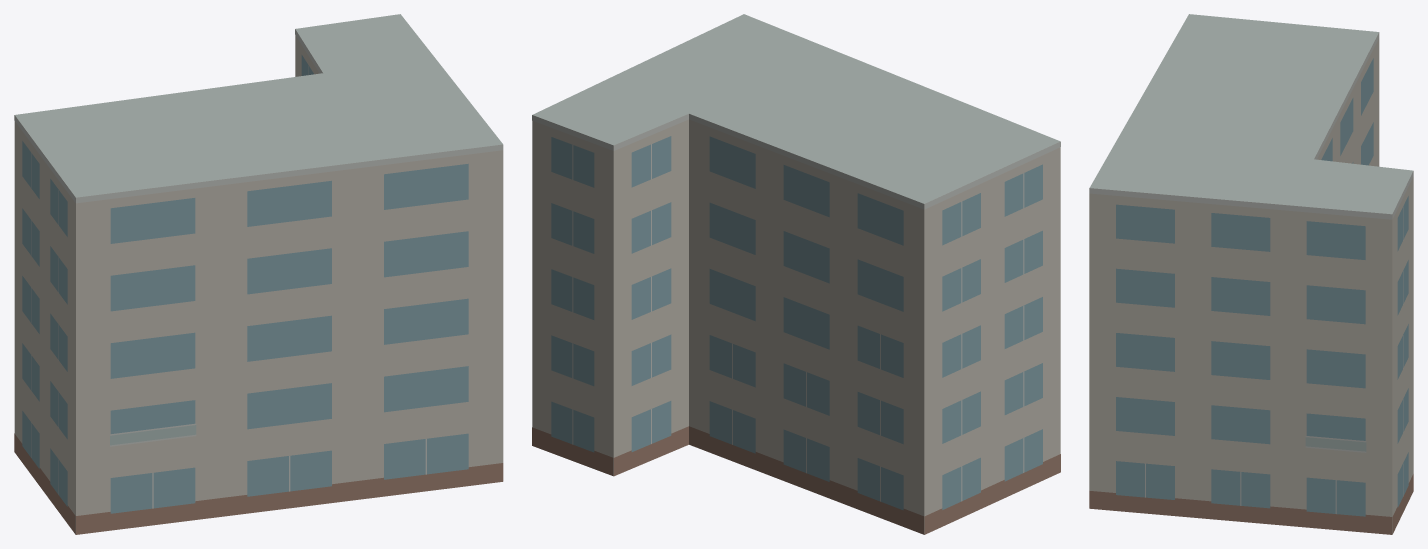
The model's file is survey-upis-33013671.glb.
3 views of the same model, side by side, from view 1: azimuth 30°, elevation 25°; view 2: azimuth 150°, elevation 25°; view 3: azimuth 270°, elevation 25° (orthographic). The views are drawn at different scales.
Visible parts, largest first — view 1: survey-upis-33013671.tmp; view 2: survey-upis-33013671.tmp; view 3: survey-upis-33013671.tmp.
Part boxes in pixels (left/top/right/bottom): survey-upis-33013671.tmp: left=14, top=14, right=503, bottom=534; survey-upis-33013671.tmp: left=532, top=14, right=1060, bottom=534; survey-upis-33013671.tmp: left=1089, top=14, right=1413, bottom=534.
Size of the model in its own units: 19.17 by 14.3 by 13.11.
